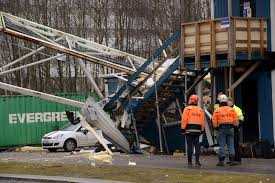helmet: (220, 95, 227, 102)
